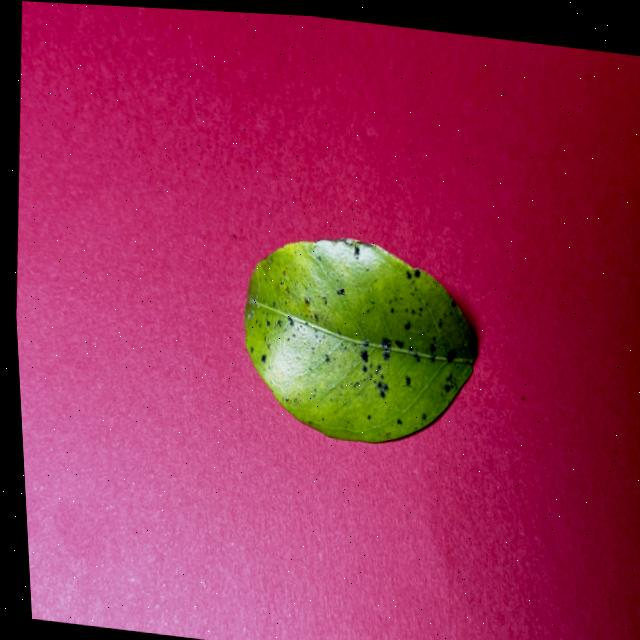sooty_mold: (244, 237, 475, 441)
